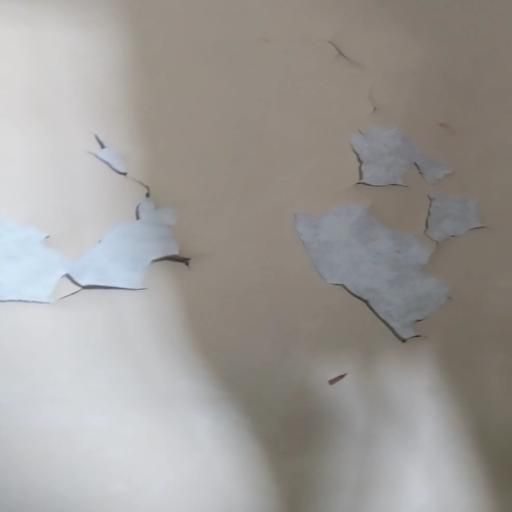peeling: (293, 104, 483, 395), (0, 131, 212, 324), (310, 12, 372, 86)
